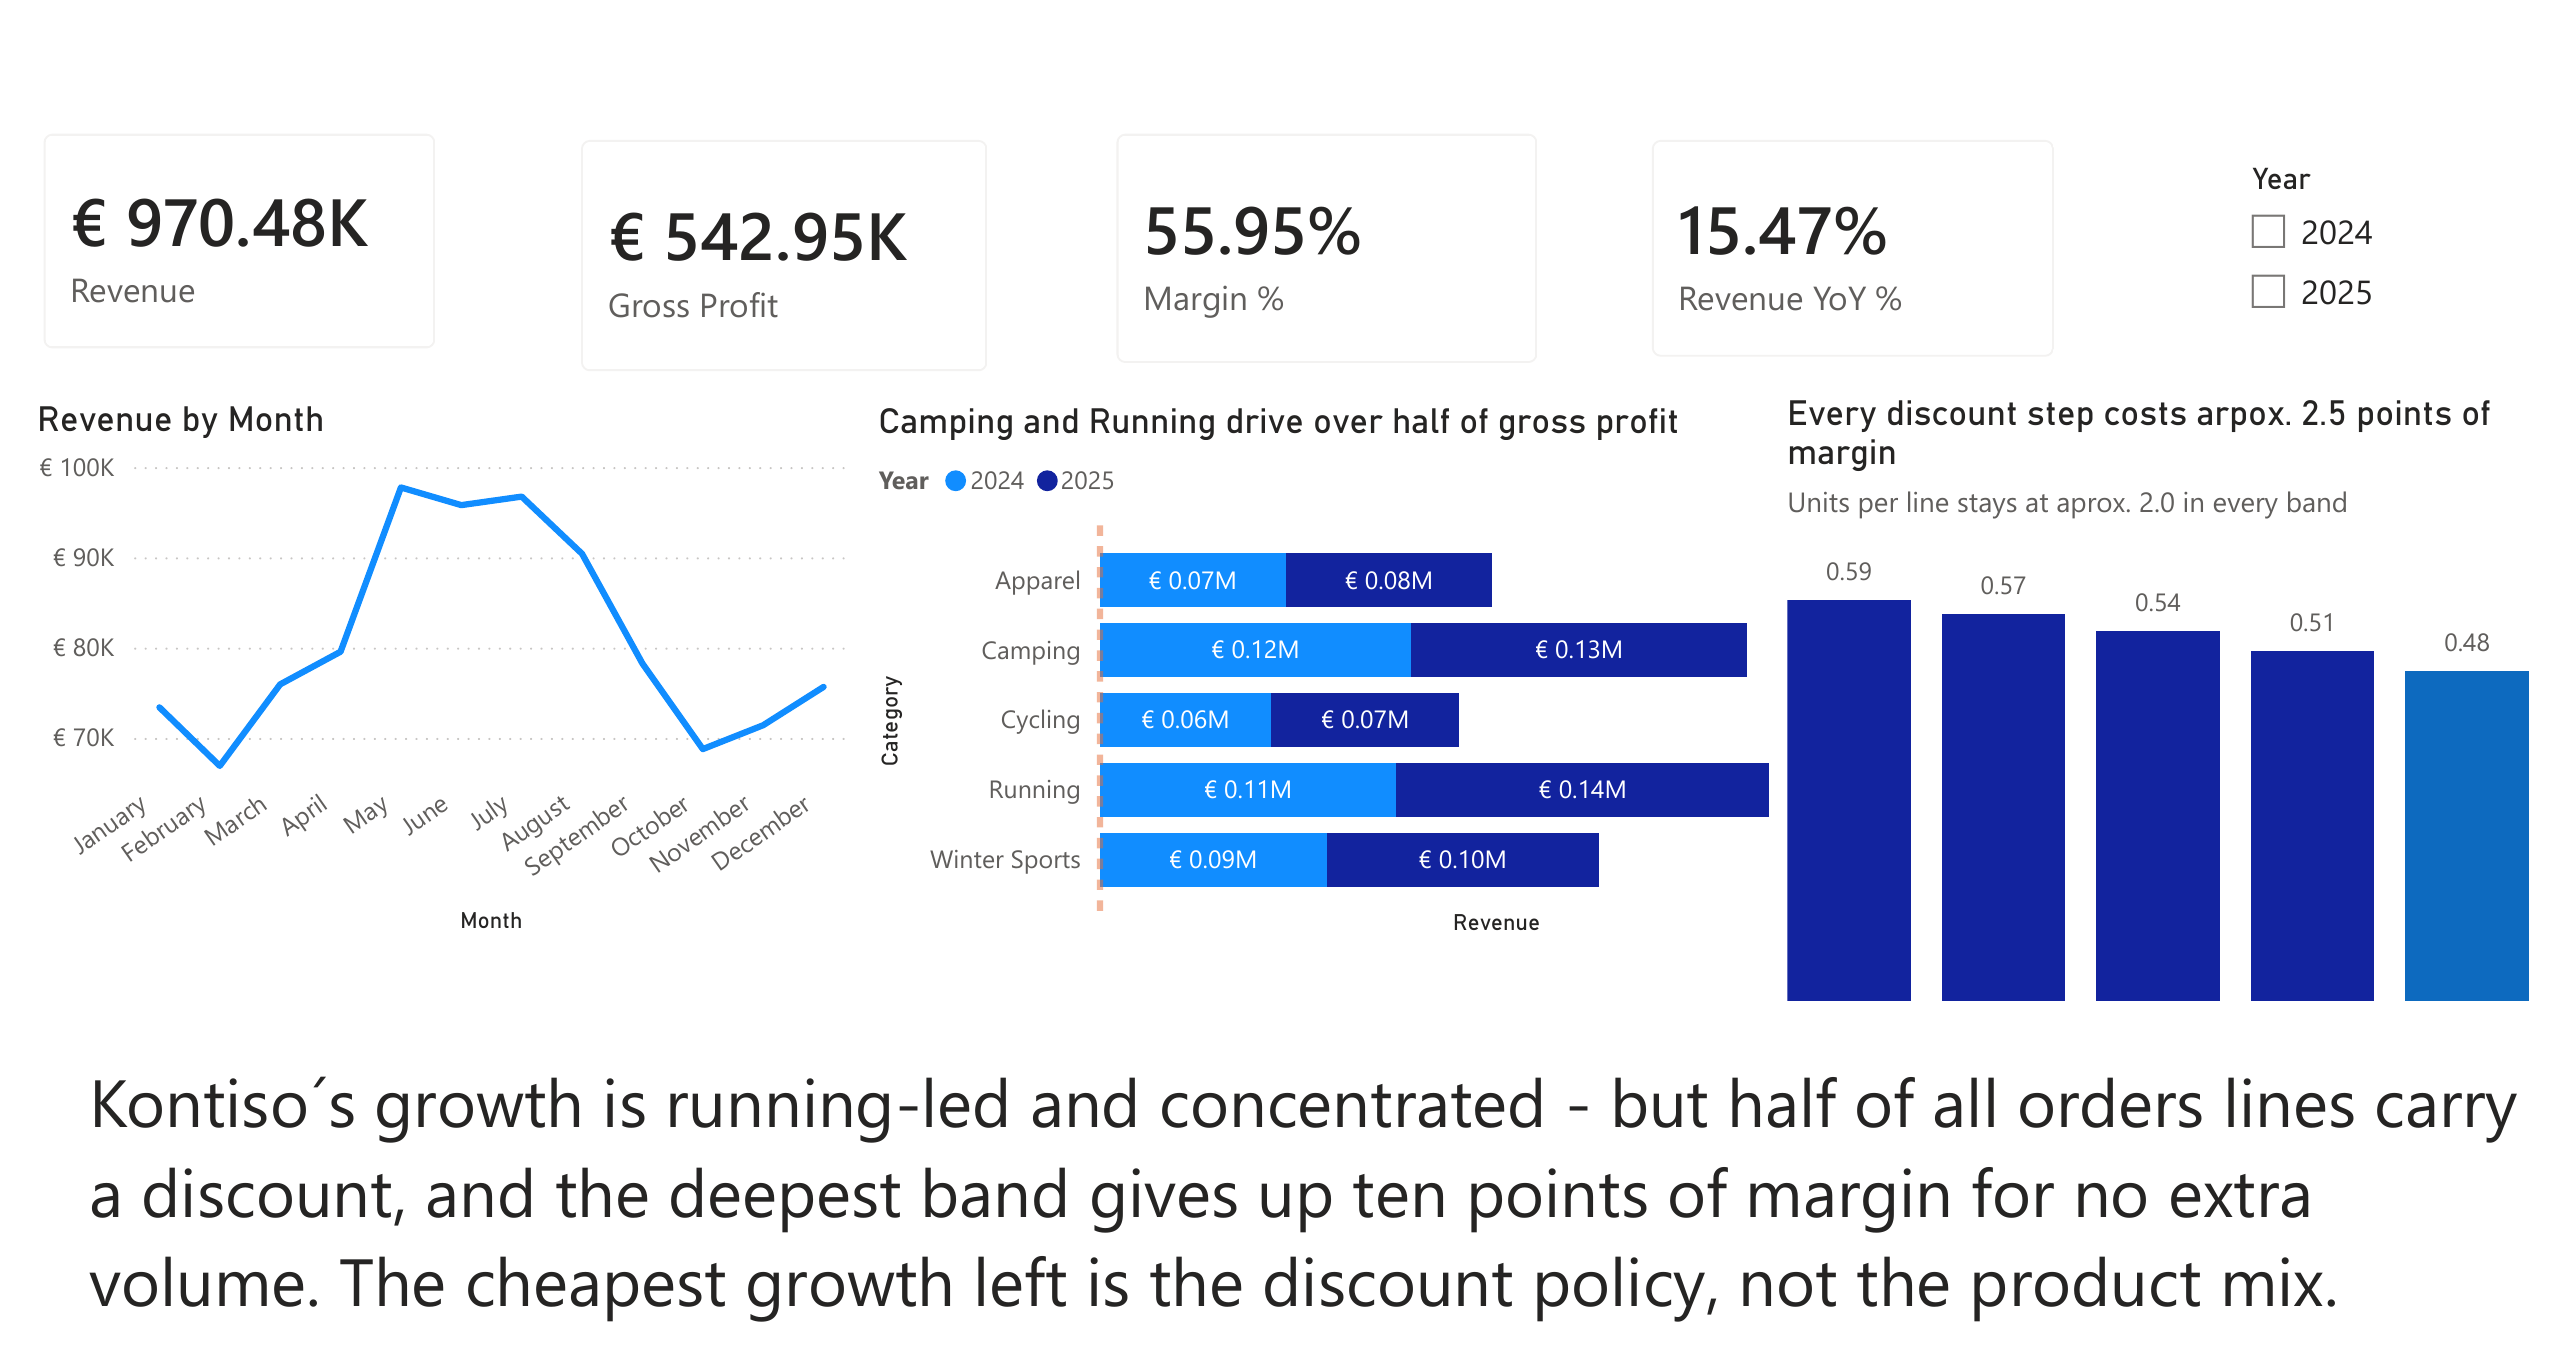

Layout of this report page (visuals, bound fields, positions):
{"tool":"powerbi","page":{"name":"Page 1","canvas":[1280,720],"ordinal":0},"visuals":[{"type":"lineChart","fields":{"Y":["Sheet1.Revenue"],"Category":["dim_date.Date.Variation.Date Hierarchy.Month"]},"box":[47,172.5,398.7,261.5],"z":0},{"type":"barChart","title":"Camping and Running drive over half of gross profit","fields":{"Series":["dim_date.Date.Variation.Date Hierarchy.Year"],"Category":["dim_product.Category"],"Y":["Sheet1.Revenue"]},"box":[451.3,173.1,497,261.5],"z":1000},{"type":"cardVisual","fields":{"Data":["Sheet1.Revenue"]},"box":[37.7,27.8,222.6,137.2],"z":3000},{"type":"cardVisual","fields":{"Data":["Sheet1.Gross Profit"]},"box":[295.5,30.9,229.4,144.7],"z":4000},{"type":"cardVisual","fields":{"Data":["Sheet1.Margin %"]},"box":[553.3,27.8,236.2,144.7],"z":5000},{"type":"cardVisual","fields":{"Data":["Sheet1.Revenue YoY %"]},"box":[809.9,30.9,226.9,138.5],"z":6000},{"type":"slicer","fields":{"Values":["dim_date.Year"]},"box":[1102.3,54.4,136.6,104.5],"z":7000},{"type":"textbox","box":[71.7,482.2,1197.5,238],"z":8000},{"type":"clusteredColumnChart","title":"Every discount step costs arpox. 2.5 points of margin","fields":{"Category":["fact_sales.Discount"],"Y":["fact_sales.Margin %"]},"box":[886.5,169.4,366.6,297.4],"z":8001}]}

Visuals, with their boxes on the page's 1280x720 design canvas (x1, y1, x2, y2). These are canvas units, not pixel positions in the 2575x1362 screenshot, which may show the page scaled, cropped or inside an application window:
lineChart - Sheet1.Revenue x dim_date.Date.Variation.Date Hierarchy.Month: 47,172,446,434
"Camping and Running drive over half of gross profit" barChart: 451,173,948,435
cardVisual - Sheet1.Revenue: 38,28,260,165
cardVisual - Sheet1.Gross Profit: 296,31,525,176
cardVisual - Sheet1.Margin %: 553,28,790,172
cardVisual - Sheet1.Revenue YoY %: 810,31,1037,169
slicer - dim_date.Year: 1102,54,1239,159
textbox: 72,482,1269,720
"Every discount step costs arpox. 2.5 points of margin" clusteredColumnChart: 886,169,1253,467
